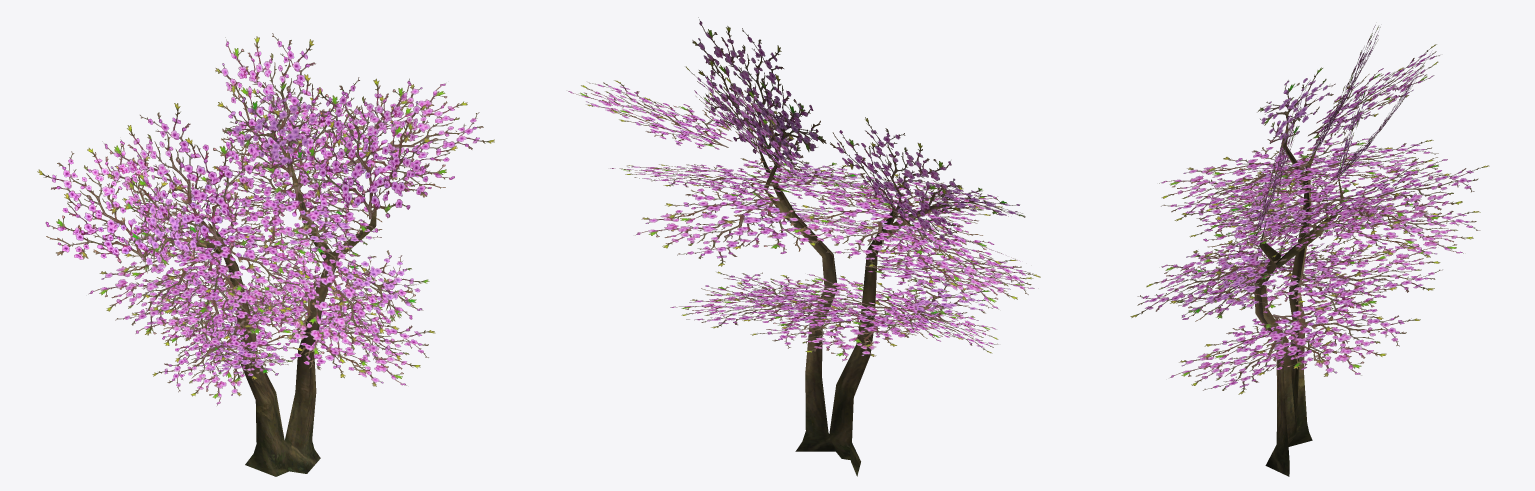
The model's file is zhiwu3.FBX.
The picture shows the model from 3 angles, left to right: view 1: azimuth 30°, elevation 25°; view 2: azimuth 150°, elevation 25°; view 3: azimuth 270°, elevation 25°; orthographic projection. The views are drawn at different scales.
Parts seen in each view (by area): view 1: 对象007; view 2: 对象007; view 3: 对象007.
Part boxes in pixels (x1=…): 对象007: x1=37, y1=33, x2=494, y2=476; 对象007: x1=568, y1=17, x2=1040, y2=476; 对象007: x1=1130, y1=25, x2=1489, y2=476.
Size of the model in its own units: 14.68 by 12.63 by 11.3.
